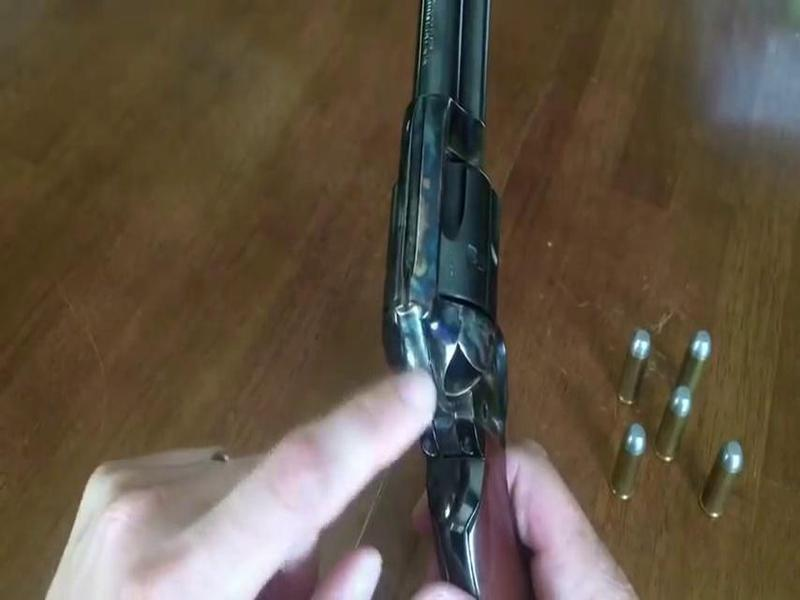Revolver: (370, 11, 581, 600)
